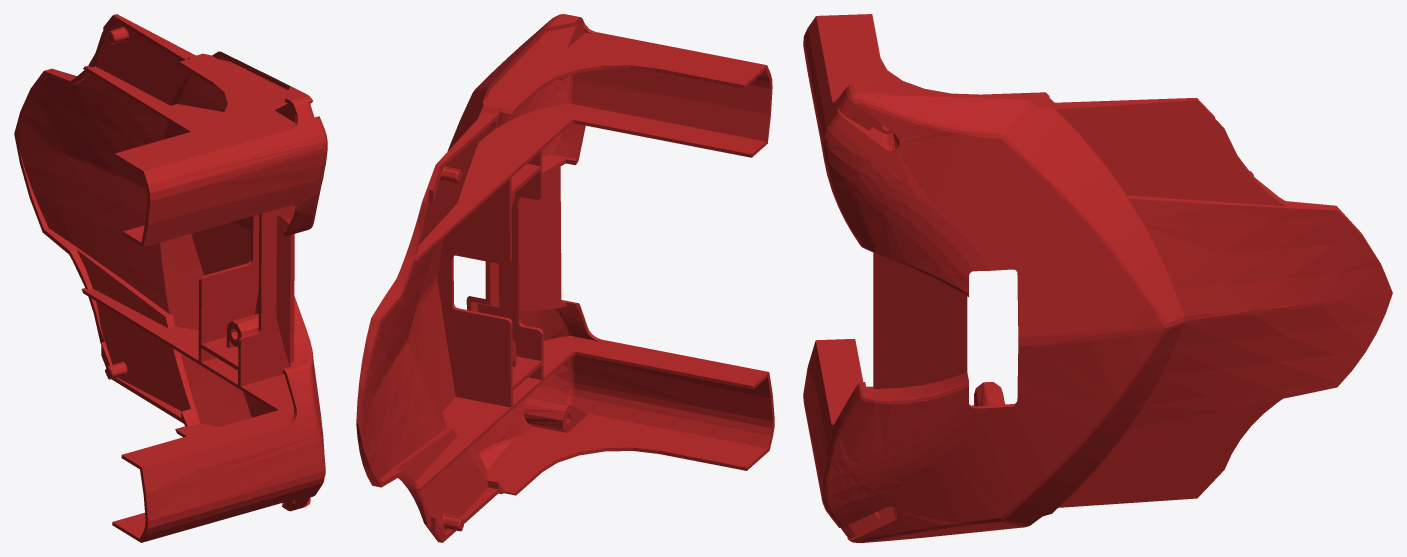
The model's file is Bioloid_CUERPO_vis_2.dae.
The picture shows the model from 3 angles, left to right: view 1: azimuth 30°, elevation 25°; view 2: azimuth 150°, elevation 25°; view 3: azimuth 270°, elevation 25°; orthographic projection. The views are drawn at different scales.
Visible parts, largest first — view 1: Node_000001D6C9E02BA0; view 2: Node_000001D6C9E02BA0; view 3: Node_000001D6C9E02BA0.
Part boxes in pixels (<box>): Node_000001D6C9E02BA0: <box>14,14,327,542</box>; Node_000001D6C9E02BA0: <box>356,14,774,542</box>; Node_000001D6C9E02BA0: <box>803,14,1392,542</box>.
Size of the model in its own units: 0.0598 by 0.1015 by 0.1204.
